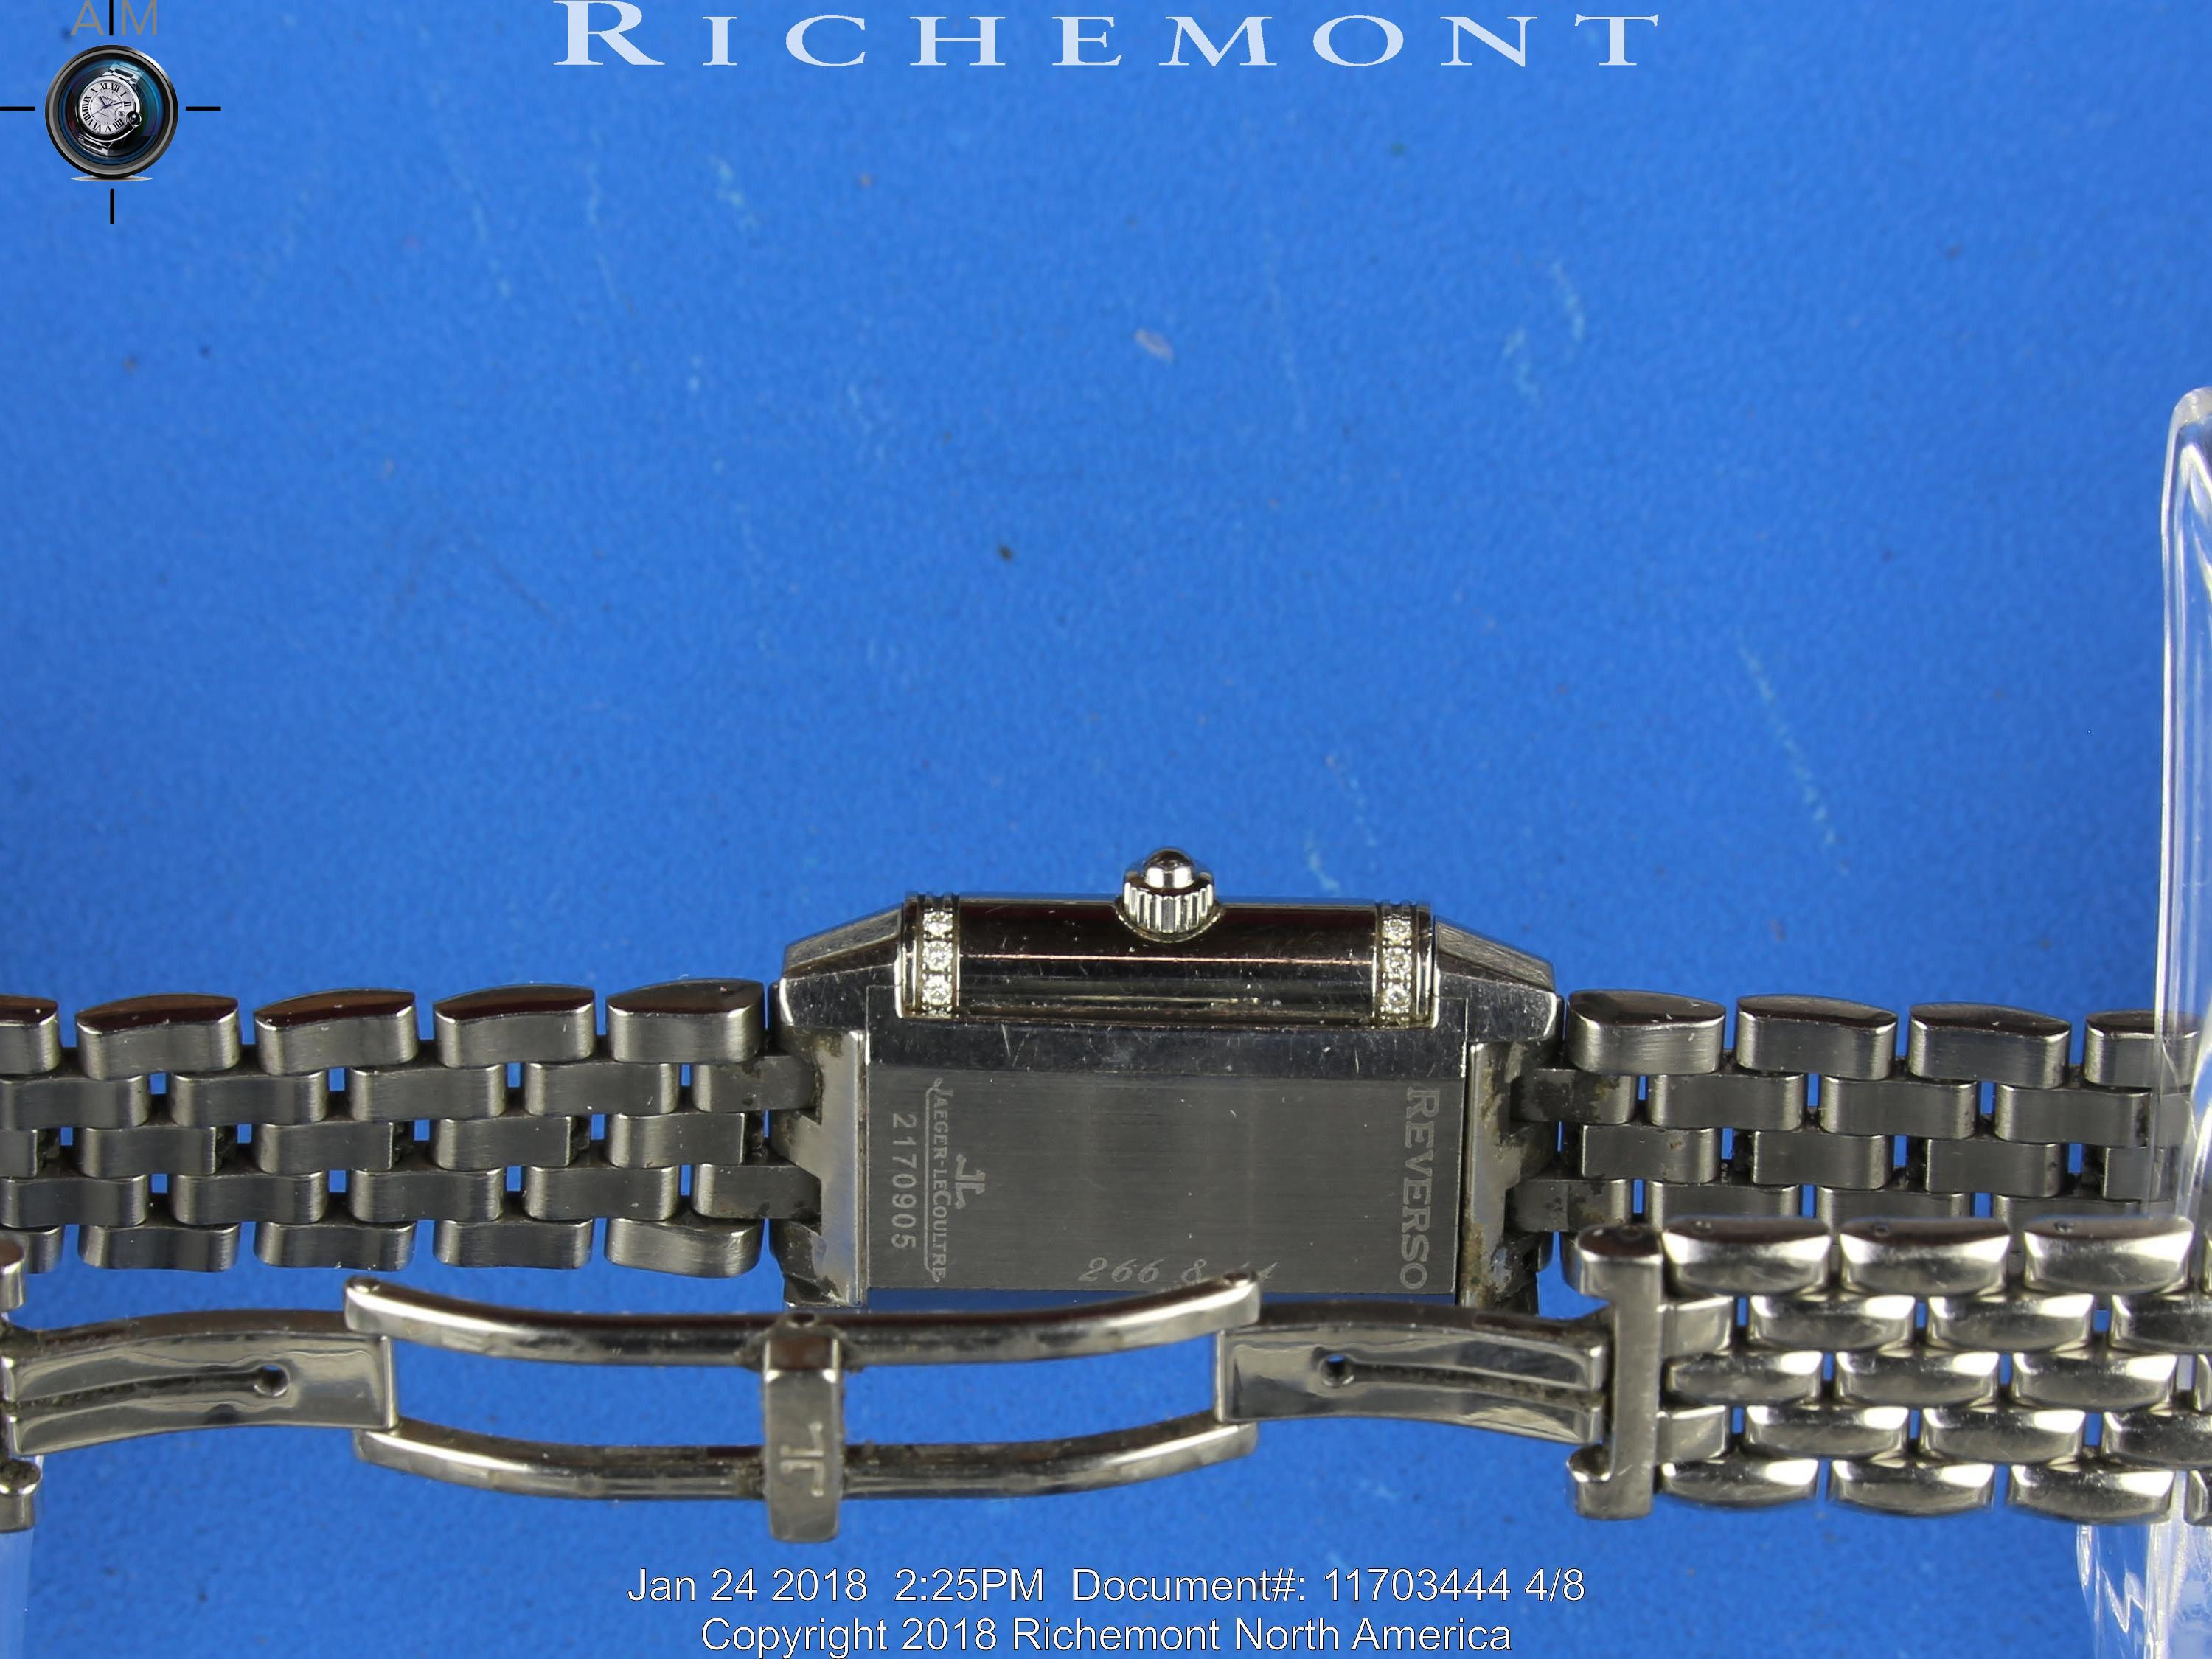Watch Back Case: (792, 969, 1554, 1328)
